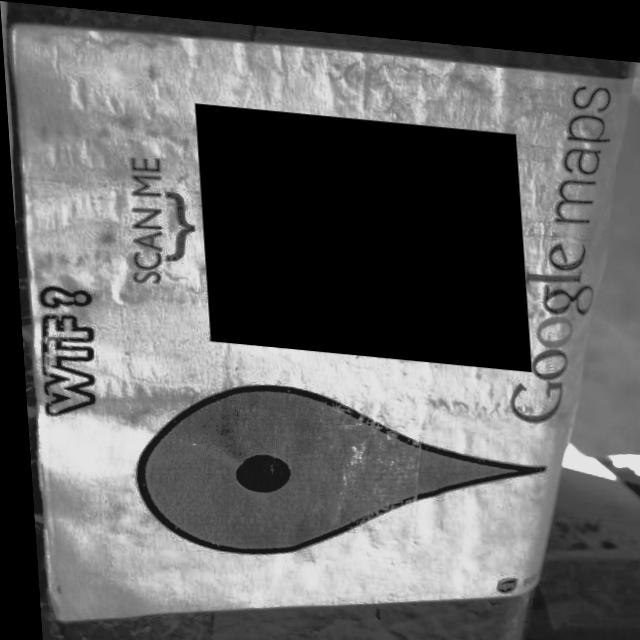qr_code: (194, 98, 527, 361)
